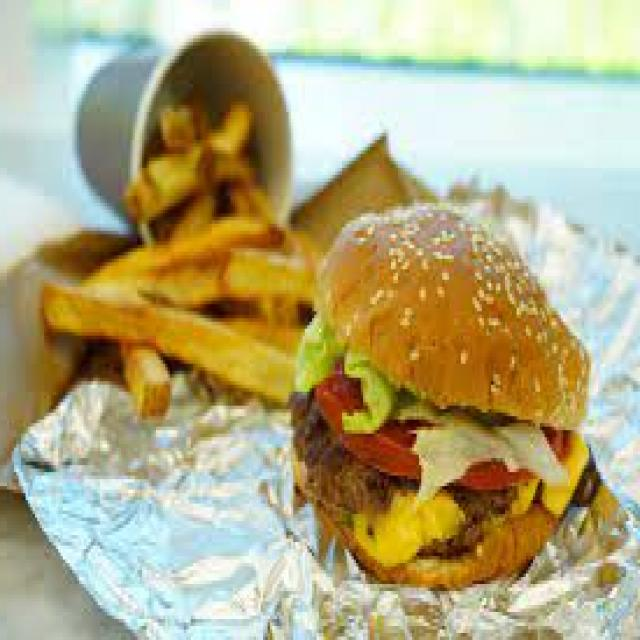Burger: (286, 192, 608, 605)
French Fries: (32, 18, 326, 423)
